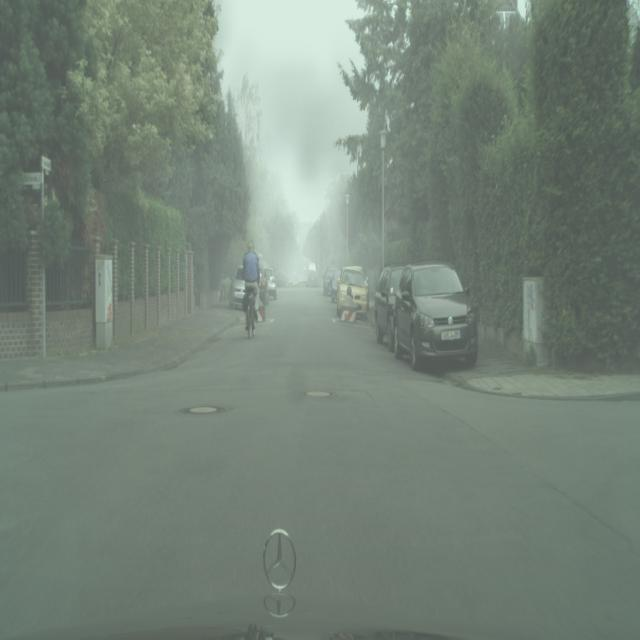bus: (244, 291, 258, 338)
car: (244, 291, 258, 339)
person: (242, 241, 261, 330)
truck: (392, 262, 478, 372), (374, 264, 404, 346), (336, 264, 369, 319), (228, 265, 245, 309), (324, 267, 341, 299), (265, 266, 278, 301), (306, 264, 318, 288)
